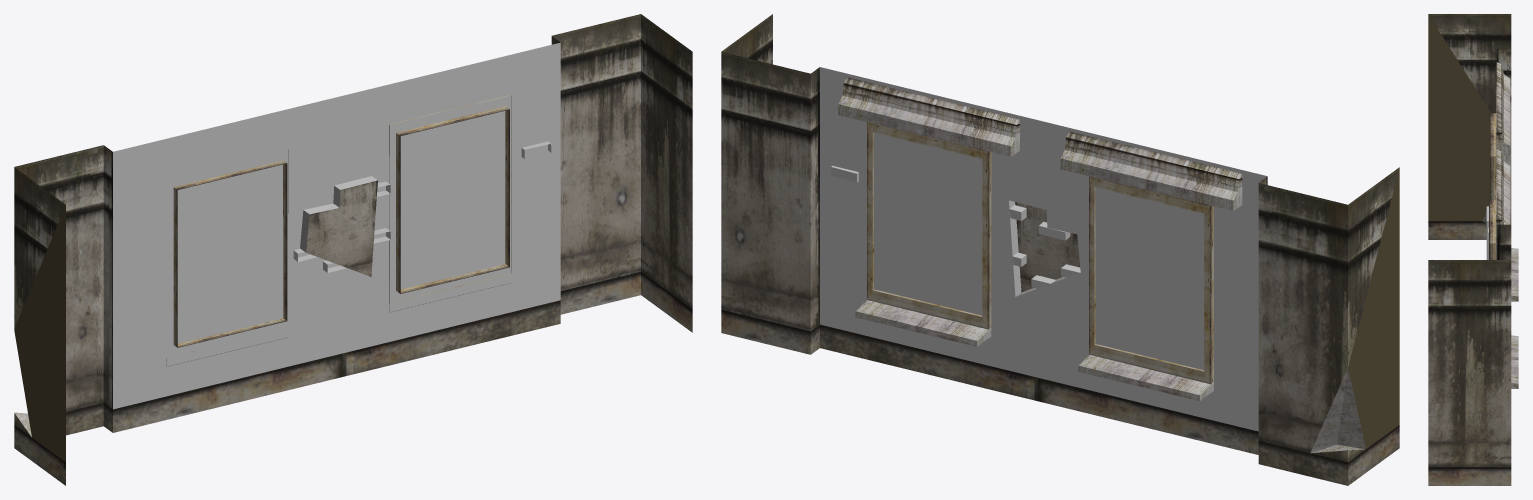
File: Store_front_3_E.fbx
3 renders of one model, left to right at view 1: azimuth 30°, elevation 25°; view 2: azimuth 150°, elevation 25°; view 3: azimuth 270°, elevation 25°, orthographic. The views are drawn at different scales.
Visible parts, largest first — view 1: Store_front_3_E; view 2: Store_front_3_E; view 3: Store_front_3_E.
Boxes of the visible parts, x1,y1,x2,y2 form: Store_front_3_E: (14,14,692,485); Store_front_3_E: (721,14,1399,485); Store_front_3_E: (1428,14,1518,485).
Size of the model in its own units: 700 by 300 by 109.
